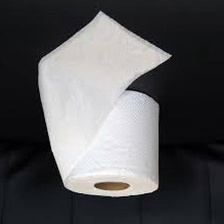tissue: (32, 7, 177, 201)
